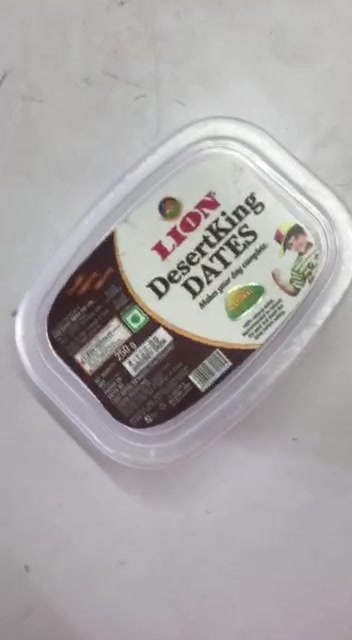Lion dates: (15, 119, 352, 466)
